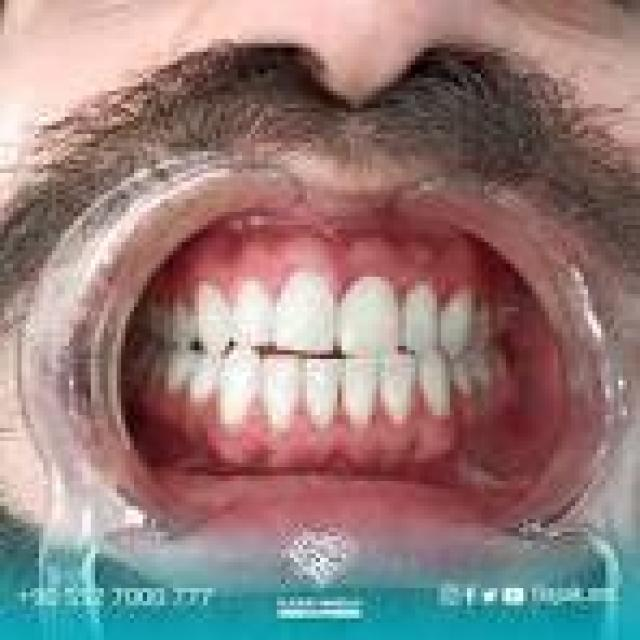tooth: (350, 277, 402, 359), (294, 277, 337, 359), (238, 276, 277, 342), (411, 281, 441, 355), (385, 376, 428, 419), (307, 368, 337, 428), (346, 368, 376, 423), (233, 359, 260, 419), (432, 354, 454, 424), (203, 281, 225, 350), (182, 350, 212, 398), (272, 368, 298, 420), (450, 294, 471, 342)
